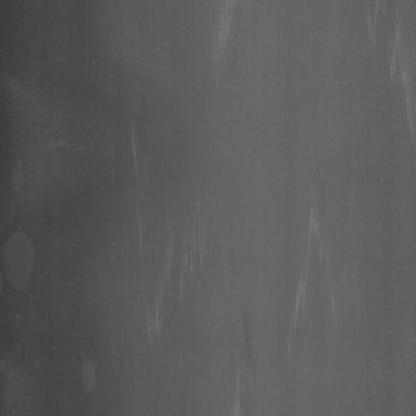oil_spot: (0, 216, 39, 294), (74, 337, 107, 410)
silk_spot: (140, 195, 209, 343), (282, 199, 332, 347), (363, 12, 414, 110), (200, 13, 238, 71)
